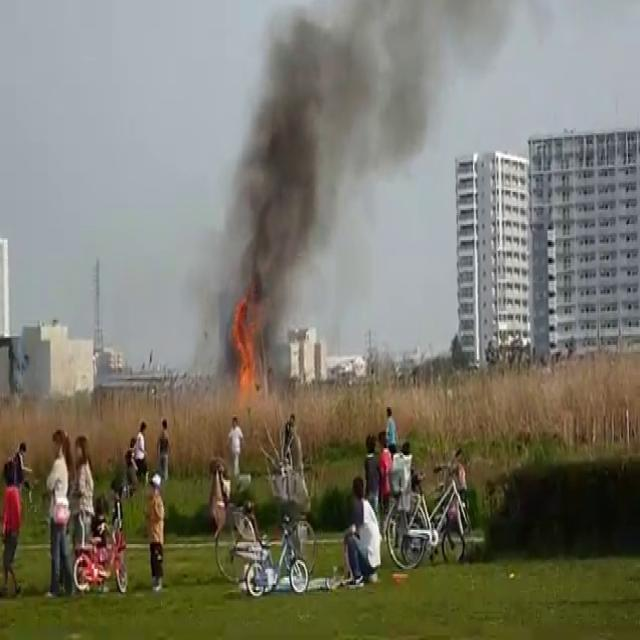Fire: (222, 292, 269, 406)
Smoke: (202, 0, 438, 364)
